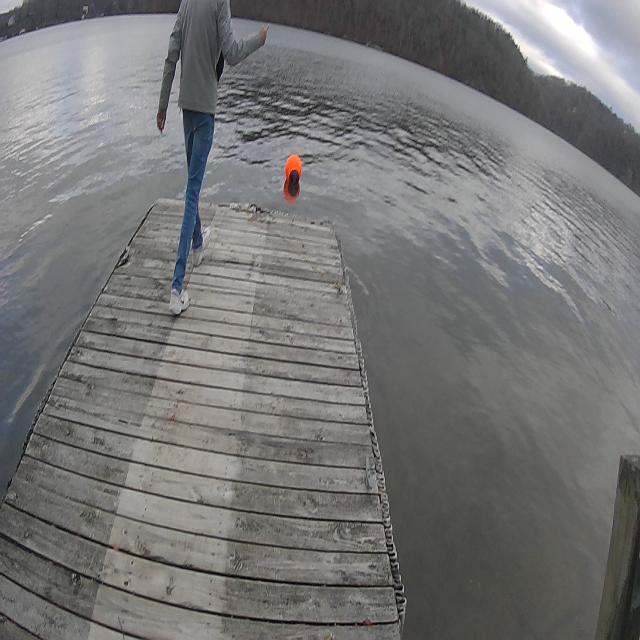Buoy: (283, 148, 303, 190)
